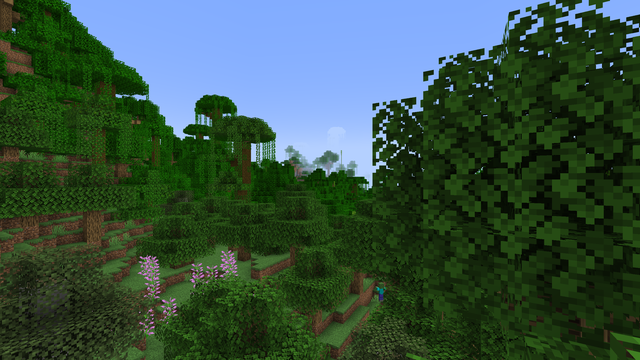zombies: (377, 282, 383, 302)
